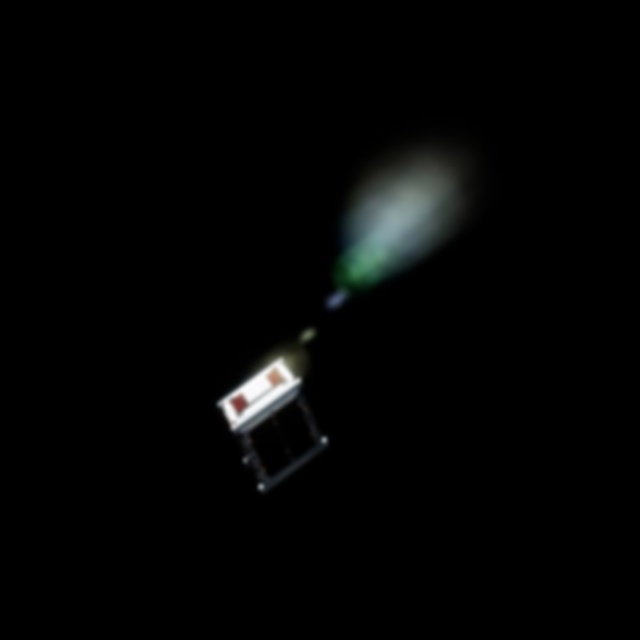satellite: (206, 348, 345, 502)
